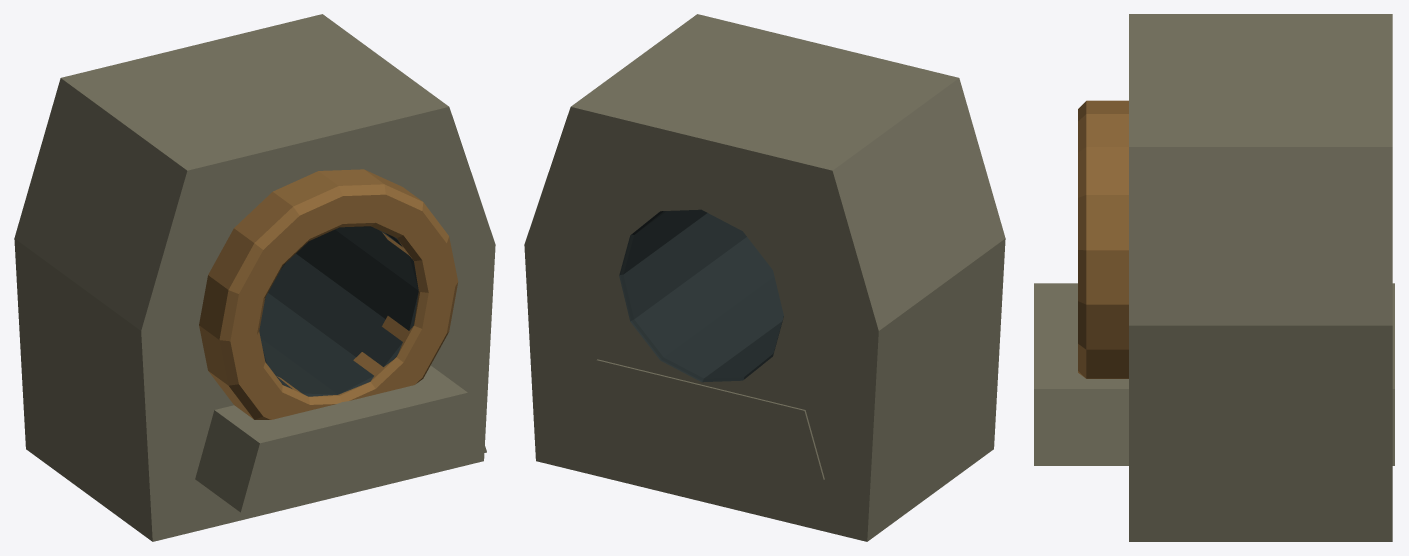
File: WATER_SPOUT.shadow.glb
3 views of the same model, side by side, from view 1: azimuth 30°, elevation 25°; view 2: azimuth 150°, elevation 25°; view 3: azimuth 270°, elevation 25° (orthographic). The views are drawn at different scales.
Visible parts, largest first — view 1: Body_Mesh; view 2: Body_Mesh; view 3: Body_Mesh.
Part boxes in pixels (x1,y1,x2,y2): Body_Mesh: (14,14,495,541); Body_Mesh: (524,14,1005,541); Body_Mesh: (1034,14,1394,541).
Size of the model in its own units: 0.92 by 0.9 by 0.78.
